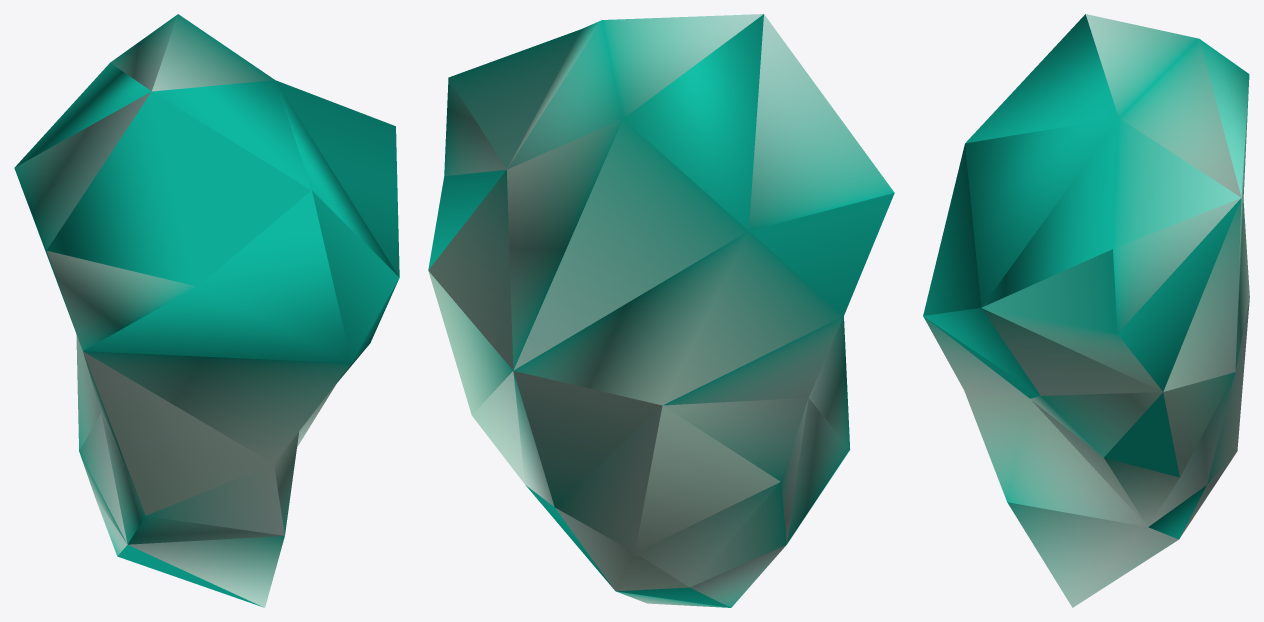
Rendered from gvdc.hrc.gltf.
3 renders of one model, left to right at view 1: azimuth 30°, elevation 25°; view 2: azimuth 150°, elevation 25°; view 3: azimuth 270°, elevation 25°, orthographic. The views are drawn at different scales.
Parts seen in each view (by area): view 1: gvdcBone0_null; view 2: gvdcBone0_null; view 3: gvdcBone0_null.
Boxes of the visible parts, x1,y1,x2,y2 form: gvdcBone0_null: [14, 14, 399, 607]; gvdcBone0_null: [428, 14, 894, 607]; gvdcBone0_null: [923, 14, 1249, 607].
Size of the model in its own units: 9.57 by 13.76 by 7.31.
